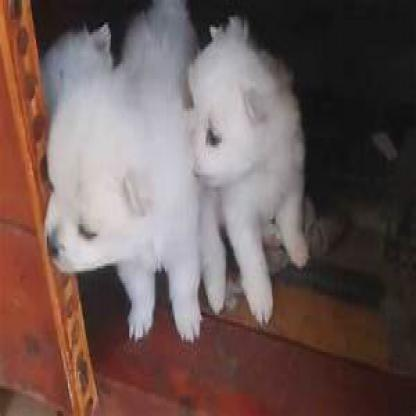dog: (44, 0, 228, 345), (186, 18, 310, 328)
